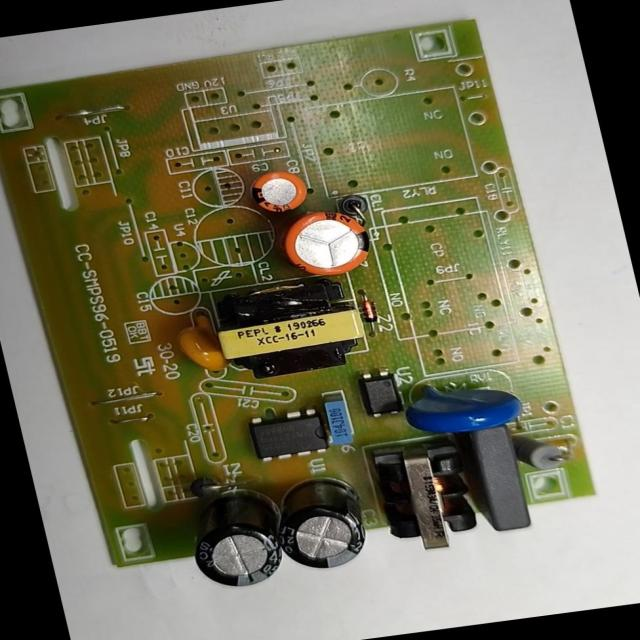Cap1: (274, 207, 379, 285)
Cap2: (248, 164, 318, 217)
Cap3: (266, 470, 376, 576)
Cap4: (182, 484, 292, 592)
MOSFET: (245, 404, 332, 466)
Mov: (400, 367, 531, 440)
Resistor: (512, 429, 569, 479)
Transformer: (205, 273, 378, 387), (371, 438, 489, 558)
